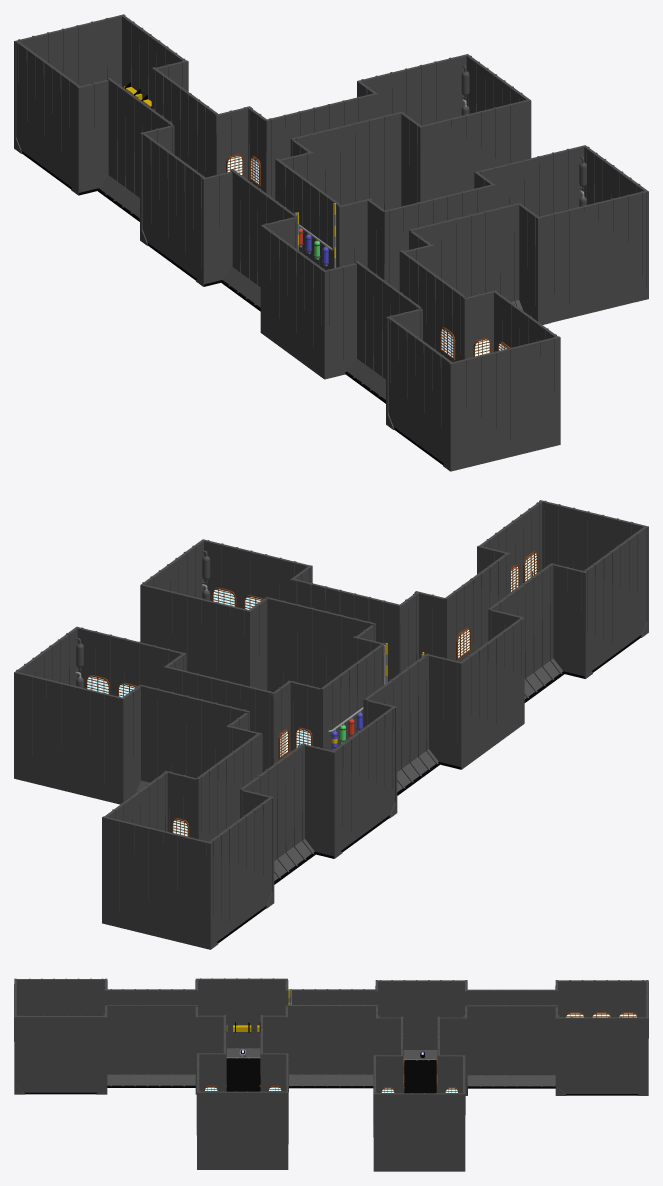
The model's file is Level1.fbx.
3 renders of one model, top to bottom at view 1: azimuth 30°, elevation 25°; view 2: azimuth 150°, elevation 25°; view 3: azimuth 270°, elevation 25°, orthographic. The views are drawn at different scales.
Parts seen in each view (by area): view 1: Wall1.011, Wall3.012, СТЕНИЩЕ 2.005, Wall3.010, Wall1.010, СТЕНИЩЕ 2.007, Wall1.012, Wall3.009, Wall4.007, Wall2.009, Wall2.011, Wall1.008 (+22 smaller); view 2: Wall1.008, Wall2.009, Wall2.011, СТЕНИЩЕ 2.003, Wall1.010, СТЕНИЩЕ 2.006, Wall4.007, Wall1.012, Wall3.009, Wall1.011, Wall3.010, Wall3.012 (+22 smaller); view 3: СТЕНИЩЕ 2.001, Wall2.008, Wall2.010, СТЕНИЩЕ 2.009, WallWithCapsules.001, Wall3.011, Wall1.009, Wall1.010, Wall4.007, Wall3.009, Wall1.012, WalktroughWall1.021 (+14 smaller).
Boxes of the visible parts, bbox=[...] form: Wall1.011: bbox=[443, 336, 560, 471]; Wall3.012: bbox=[539, 191, 645, 322]; СТЕНИЩЕ 2.005: bbox=[291, 112, 402, 210]; Wall3.010: bbox=[421, 100, 528, 201]; Wall1.010: bbox=[260, 225, 324, 378]; СТЕНИЩЕ 2.007: bbox=[409, 203, 522, 309]; Wall1.012: bbox=[387, 316, 452, 464]; Wall3.009: bbox=[16, 41, 81, 187]; Wall4.007: bbox=[142, 132, 205, 278]; Wall2.009: bbox=[358, 54, 469, 125]; Wall2.011: bbox=[475, 146, 586, 216]; Wall1.008: bbox=[14, 14, 125, 153]; Wall1.008: bbox=[102, 816, 218, 949]; Wall2.009: bbox=[14, 672, 123, 804]; Wall2.011: bbox=[140, 584, 250, 686]; СТЕНИЩЕ 2.003: bbox=[136, 685, 249, 792]; Wall1.010: bbox=[461, 618, 524, 769]; СТЕНИЩЕ 2.006: bbox=[265, 597, 375, 692]; Wall4.007: bbox=[322, 707, 394, 856]; Wall1.012: bbox=[583, 526, 646, 672]; Wall3.009: bbox=[208, 797, 271, 941]; Wall1.011: bbox=[539, 500, 648, 637]; Wall3.010: bbox=[77, 627, 183, 697]; Wall3.012: bbox=[204, 540, 309, 609]; СТЕНИЩЕ 2.001: bbox=[466, 1005, 557, 1086]; Wall2.008: bbox=[373, 1093, 464, 1171]; Wall2.010: bbox=[197, 1091, 288, 1169]; СТЕНИЩЕ 2.009: bbox=[107, 1004, 198, 1086]; WallWithCapsules.001: bbox=[287, 1003, 378, 1086]; Wall3.011: bbox=[15, 1015, 104, 1092]; Wall1.009: bbox=[558, 1017, 646, 1093]; Wall1.010: bbox=[198, 978, 285, 1058]; Wall4.007: bbox=[378, 980, 467, 1060]; Wall3.009: bbox=[556, 980, 647, 1017]; Wall1.012: bbox=[15, 978, 106, 1015]; WalktroughWall1.021: bbox=[373, 1055, 462, 1136].
Bounding box in the file's own units: 36040 × 11570 × 83041.
